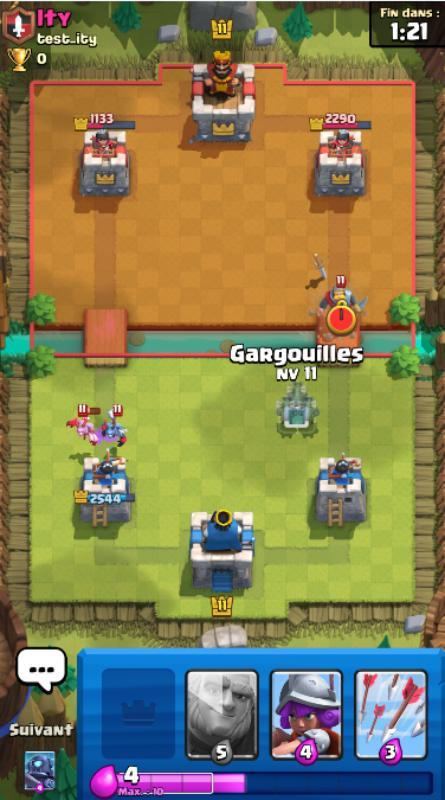chevalier: (318, 274, 368, 316)
gargouille: (66, 403, 102, 446), (101, 403, 128, 447), (295, 395, 320, 425), (286, 380, 308, 408), (276, 395, 297, 424)
